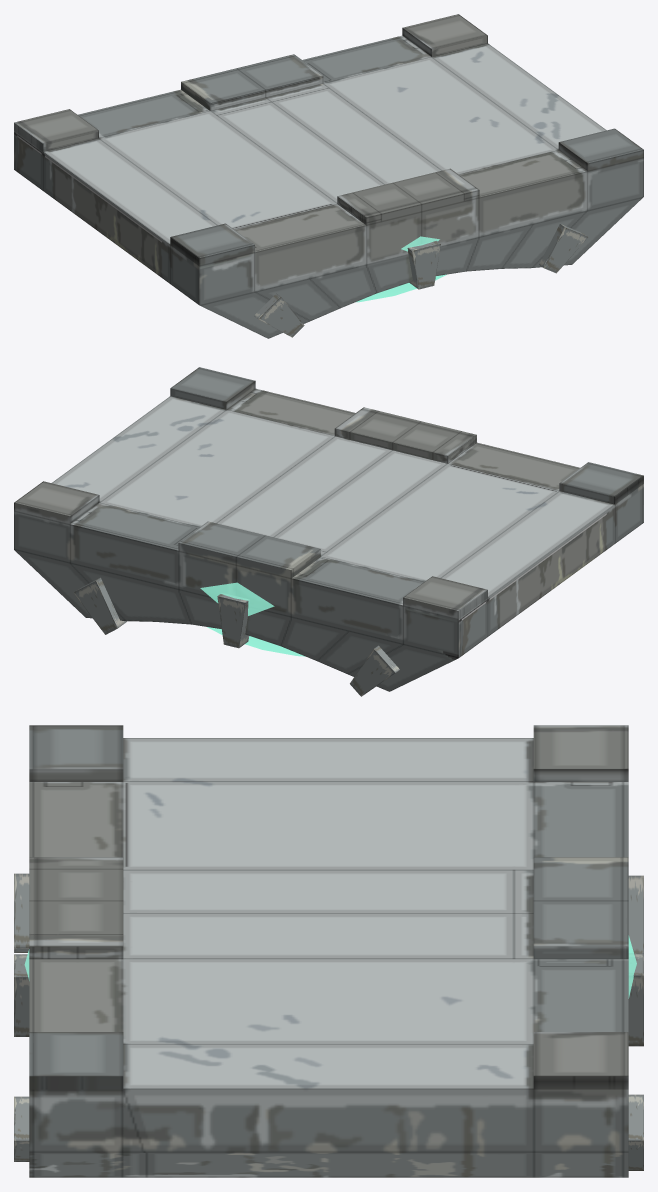
Rendered from newplatform.fbx.
3 renders of one model, top to bottom at view 1: azimuth 30°, elevation 25°; view 2: azimuth 150°, elevation 25°; view 3: azimuth 270°, elevation 25°, orthographic. The views are drawn at different scales.
Parts seen in each view (by area): view 1: Mesh, Mesh (2); view 2: Mesh, Mesh (2); view 3: Mesh.
Part boxes in pixels (x1,y1,x2,y2): Mesh: (14,14,643,338); Mesh (2): (356,236,446,302); Mesh: (14,367,643,696); Mesh (2): (200,582,305,656); Mesh: (14,725,643,1177).
Bounding box in the file's own units: 4100 × 1227 × 3110.
